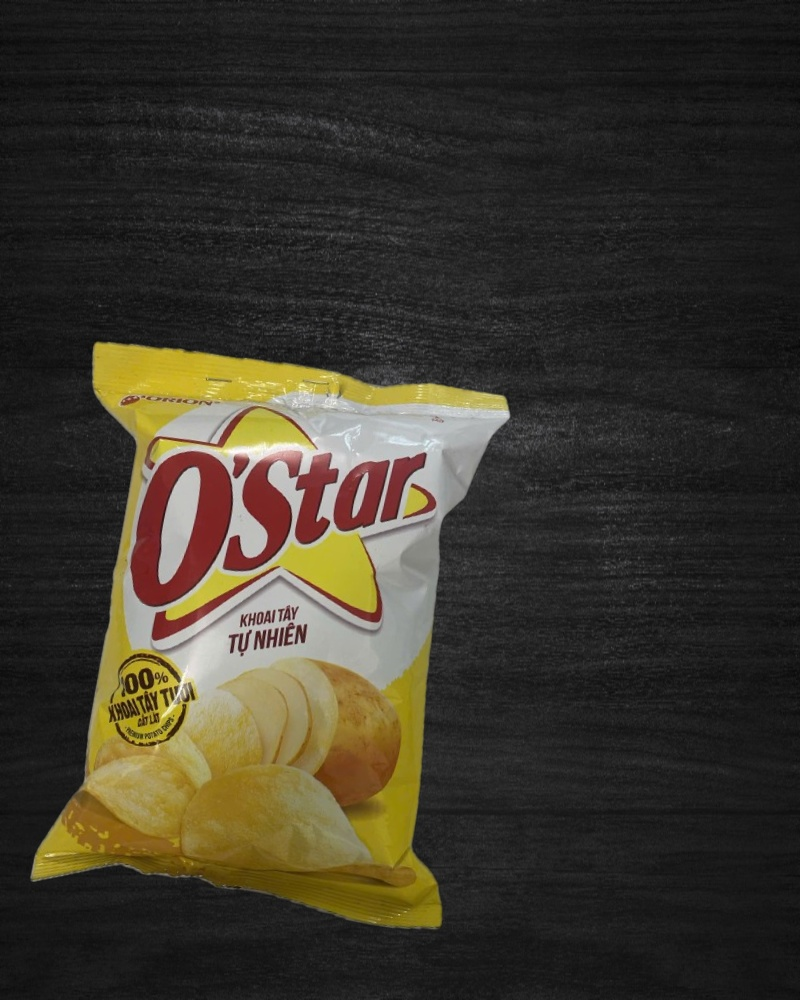O'star: (2, 324, 534, 953)
